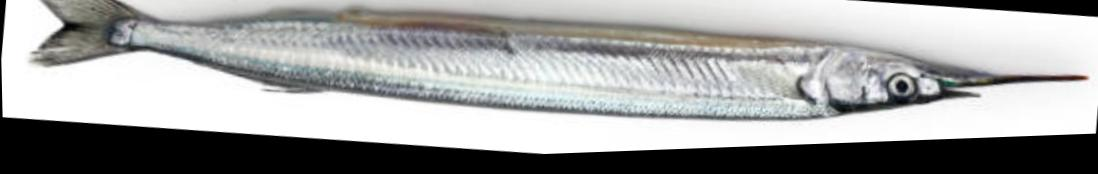fish: (29, 0, 1086, 127)
